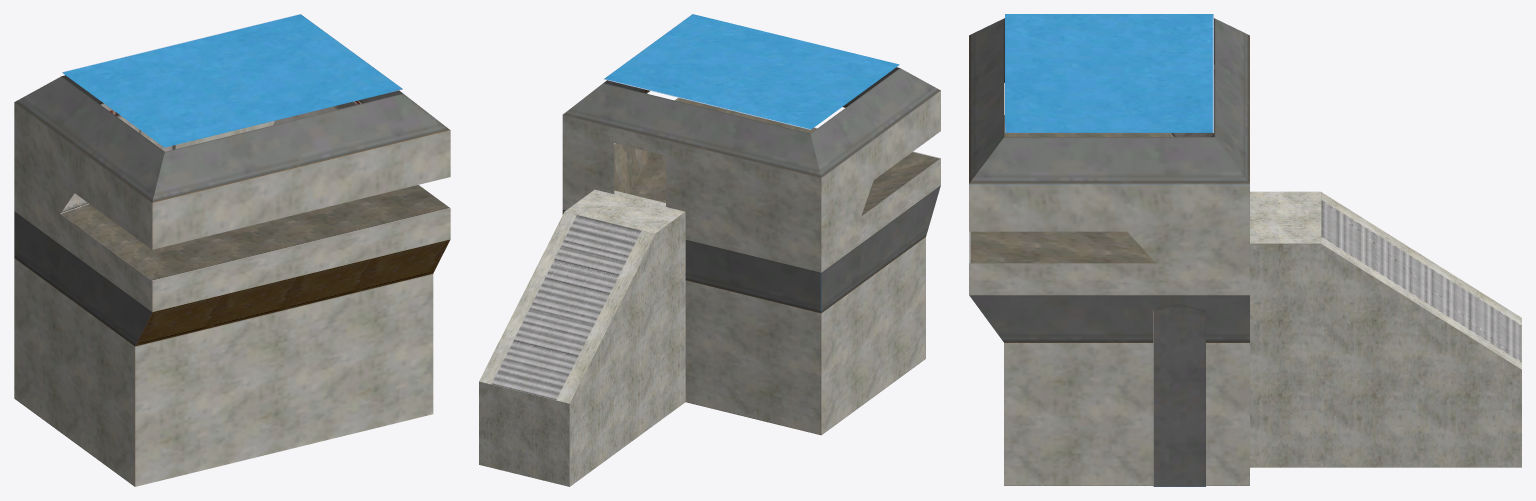
File: mun_all_military_base_gate_house_rebl_s01_l3.fbx
The picture shows the model from 3 angles, left to right: view 1: azimuth 30°, elevation 25°; view 2: azimuth 150°, elevation 25°; view 3: azimuth 270°, elevation 25°; orthographic projection. The views are drawn at different scales.
Visible parts, largest first — view 1: mesh_node; view 2: mesh_node; view 3: mesh_node.
Boxes of the visible parts, x1,y1,x2,y2 form: mesh_node: (14, 14, 450, 486); mesh_node: (479, 14, 940, 486); mesh_node: (969, 14, 1521, 486).
Size of the model in its own units: 10.06 by 10.64 by 15.74.
2 materials, 2 textured.
